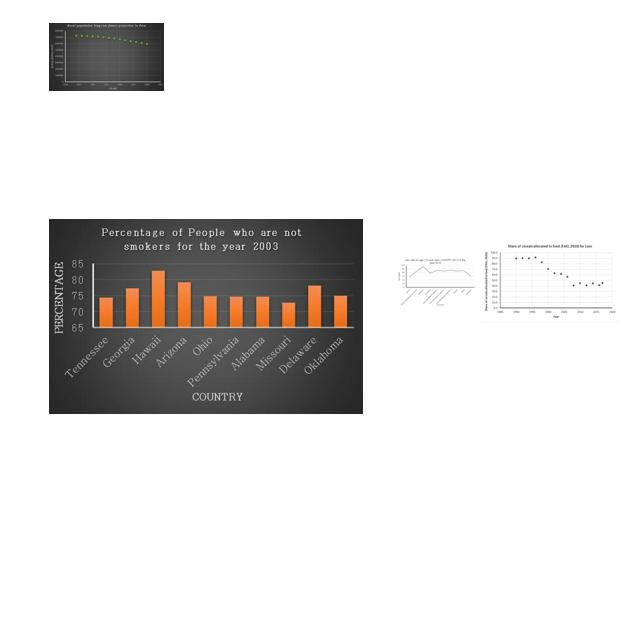Graph: (49, 219, 363, 414), (482, 242, 619, 323), (49, 23, 164, 91), (395, 258, 476, 306)
